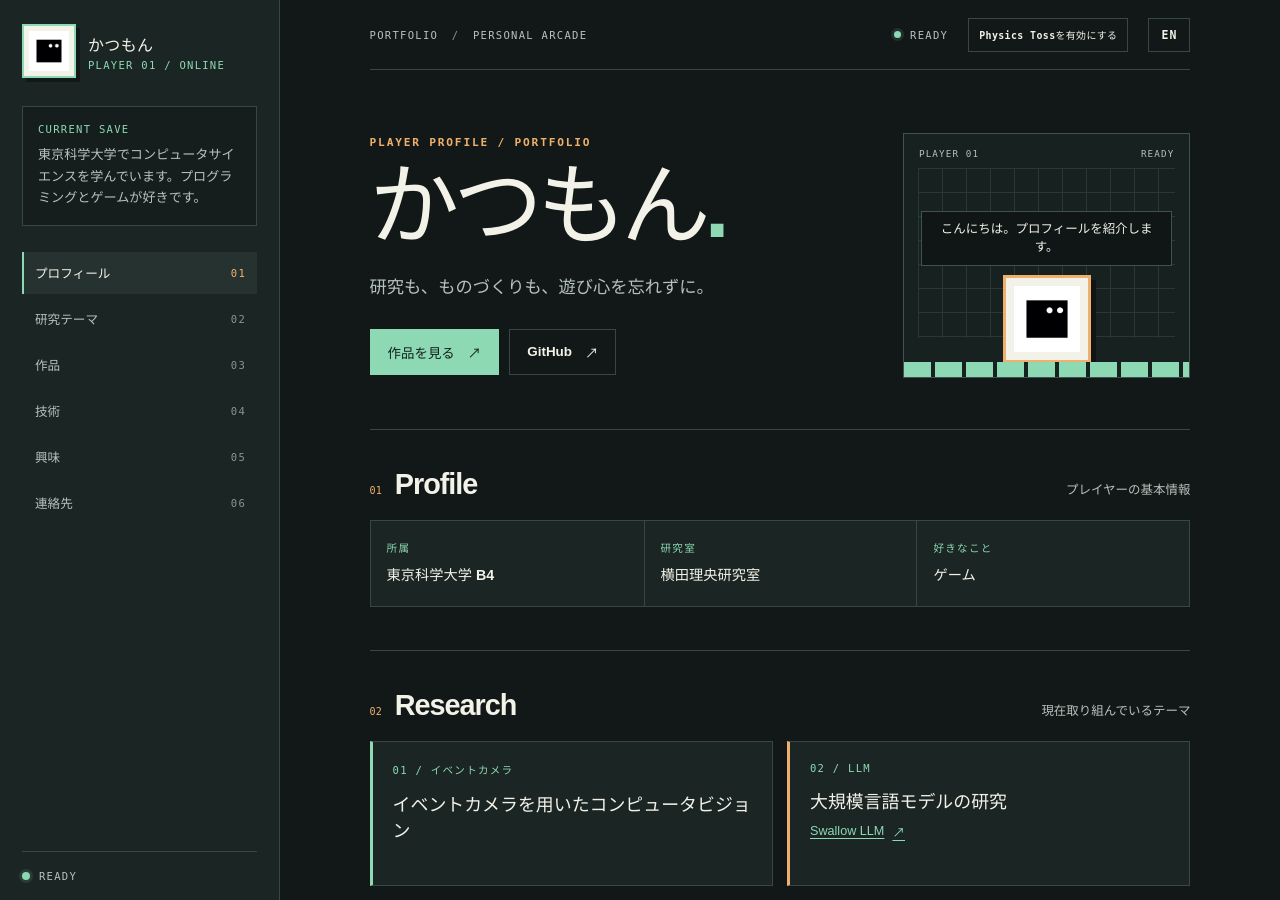
it: portfolio screen › switches research and project descriptions to their English translations
Expected: the heading "イベントカメラを用いたコンピュータビジョン" is shown, [393,790,752,842]
Click the button with aria-label "英語に切り替え" at coordinates (1169, 34), box [1148,18,1190,52]
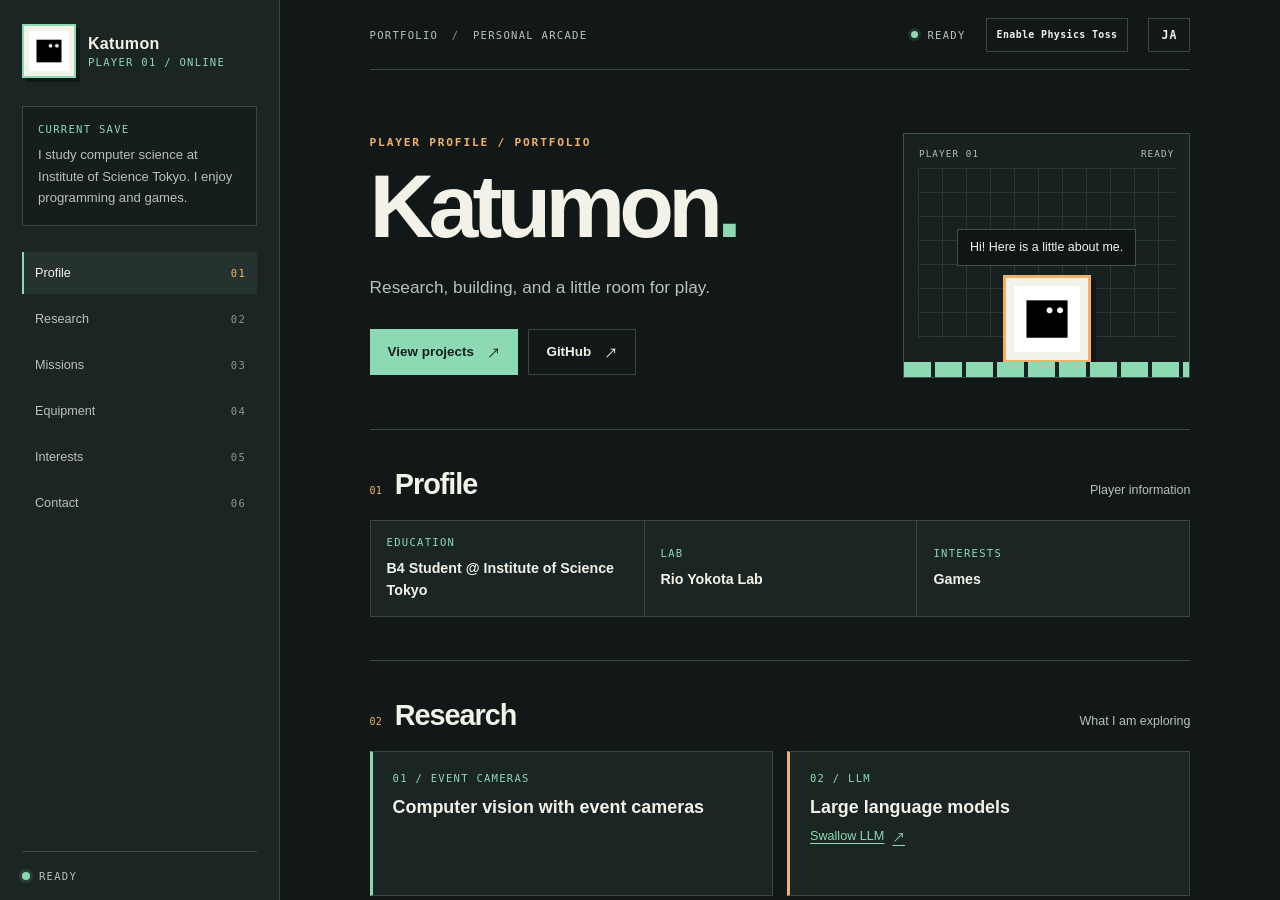
Expected: the heading "Computer vision with event cameras" is shown, [393,797,752,818]
Expected: the heading "イベントカメラを用いたコンピュータビジョン" is gone
Expected: the button with aria-label "Switch language to Japanese" is shown
Click the button with aria-label "Switch language to Japanese" at coordinates (1169, 34), box [1148,18,1190,52]
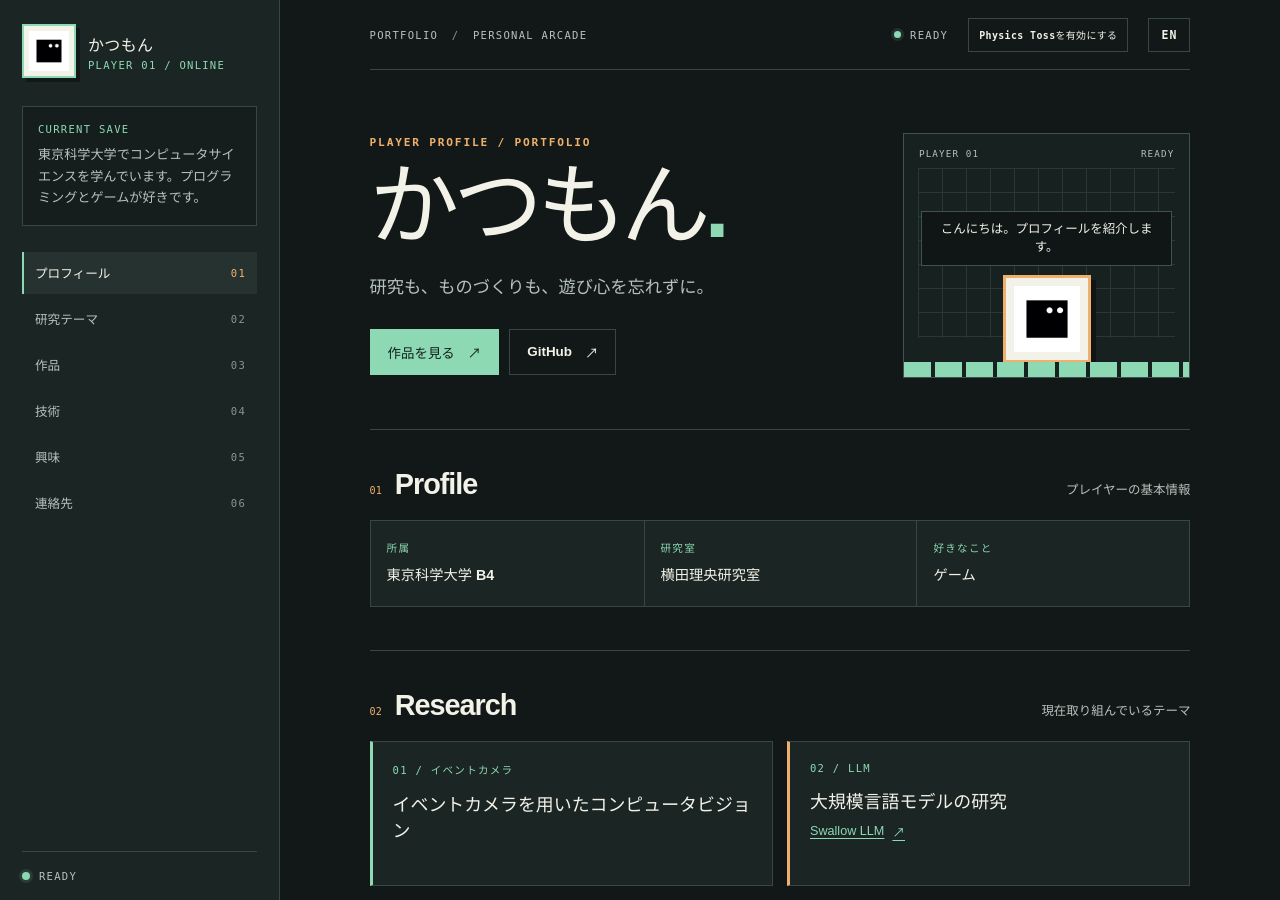
Expected: the button with aria-label "英語に切り替え" is shown, [1148,18,1190,52]
